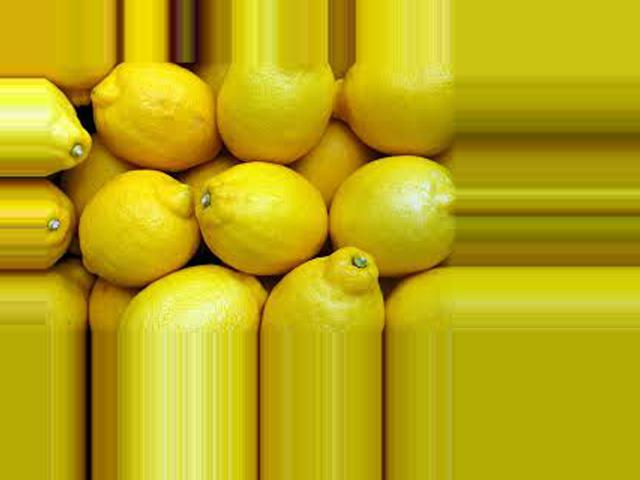lemon: (389, 262, 458, 325)
